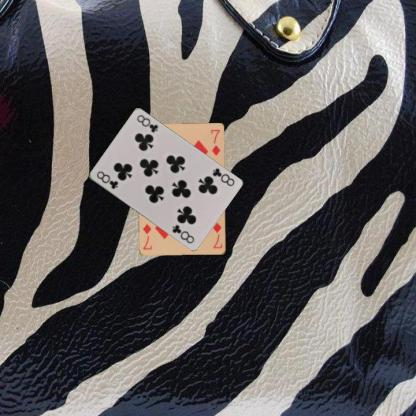7d: (210, 220, 224, 250)
8c: (93, 168, 119, 191), (210, 165, 236, 187)
